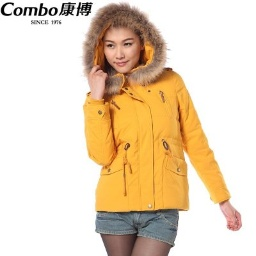face: (102, 22, 148, 74)
